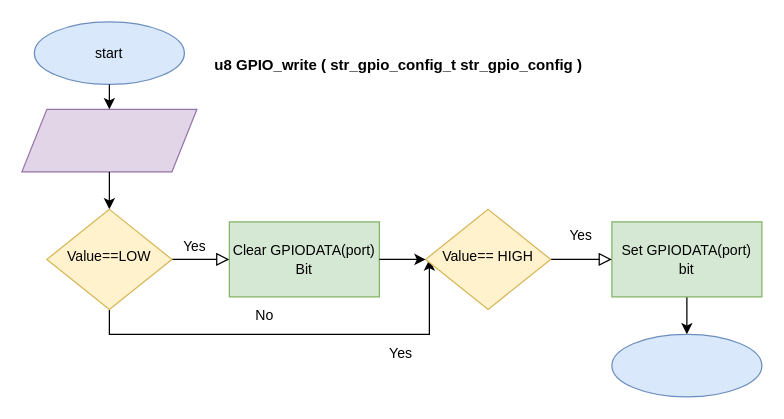
The diagram is 784 pixels wide and 419 high, and some of its shapes have lost their labels. Each missing label, with the centre of its shape:
"end" goes at point 686,365.
"str_gpio_config, value" goes at point 109,140.
